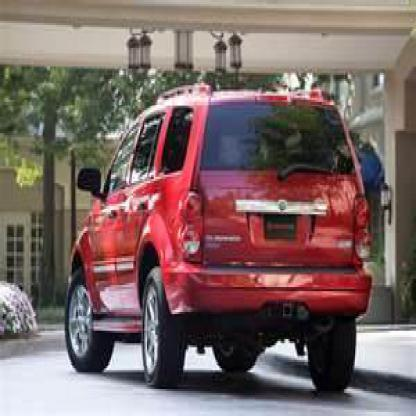Vehicle: (46, 42, 406, 414)
